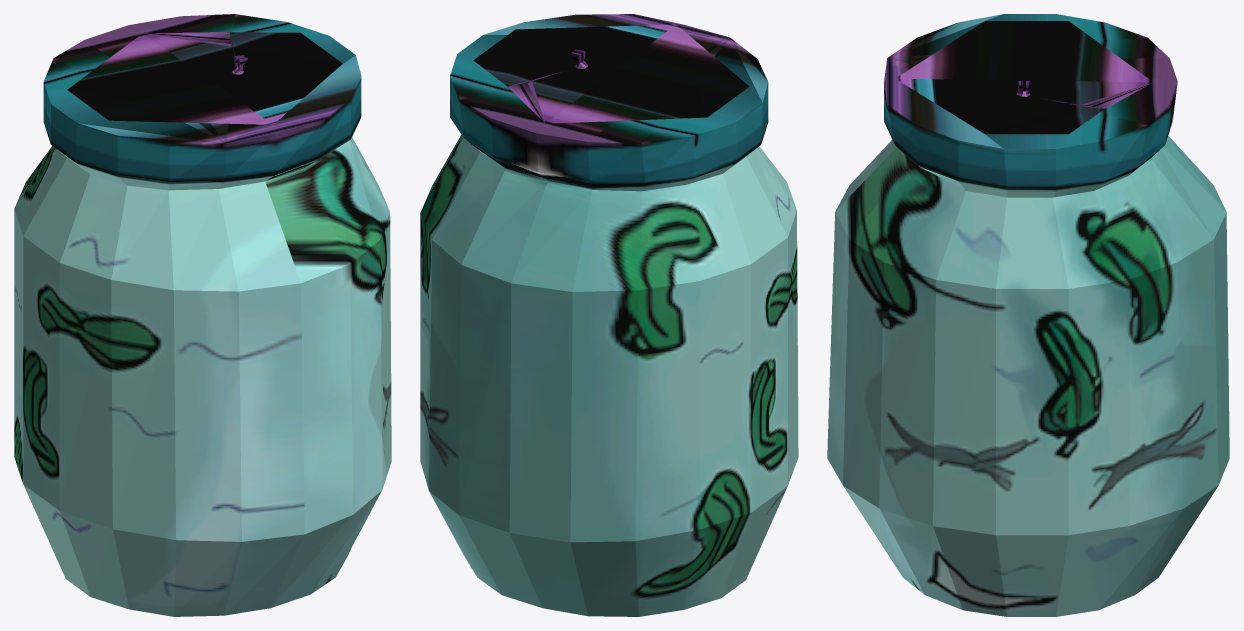
The model's file is Jar.glb.
3 views of the same model, side by side, from view 1: azimuth 30°, elevation 25°; view 2: azimuth 150°, elevation 25°; view 3: azimuth 270°, elevation 25° (orthographic).
Visible parts, largest first — view 1: Jar; view 2: Jar; view 3: Jar.
Boxes of the visible parts, <box> form: Jar: <box>14,14,391,616</box>; Jar: <box>420,14,798,616</box>; Jar: <box>827,14,1229,616</box>.
Size of the model in its own units: 44.16 by 65.42 by 48.65.
Materials: 1 (1 with a texture image).
